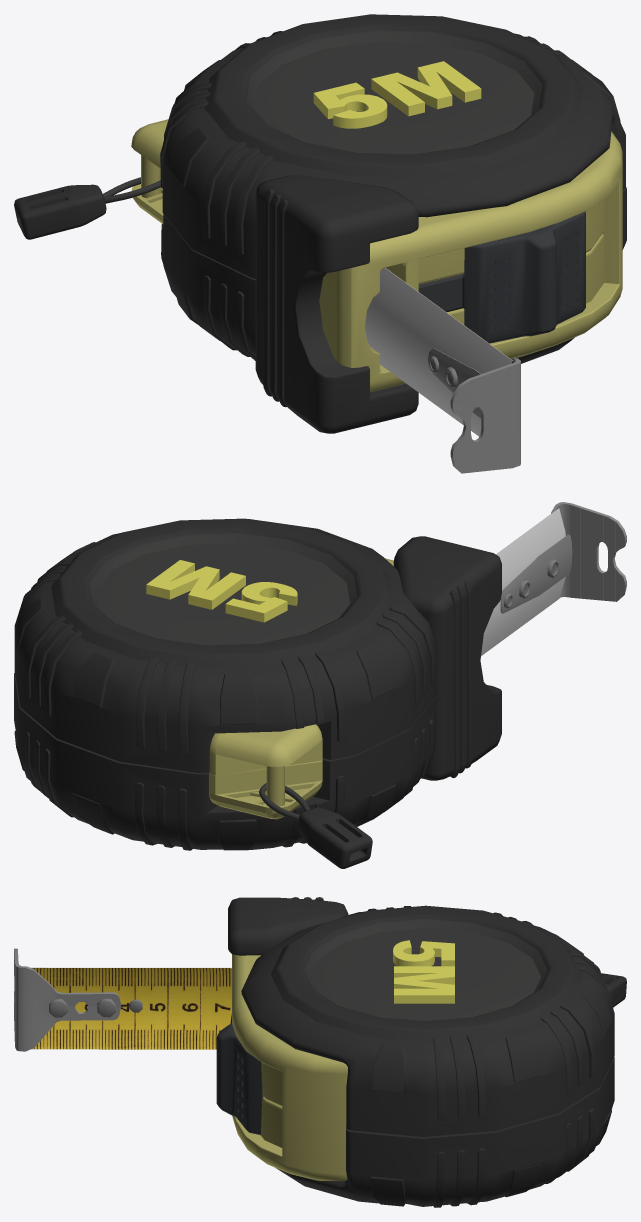
The picture shows the model from 3 angles, top to bottom: view 1: azimuth 30°, elevation 25°; view 2: azimuth 150°, elevation 25°; view 3: azimuth 270°, elevation 25°; orthographic projection. The views are drawn at different scales.
Parts seen in each view (by area): view 1: polySurface144, pCube193, polySurface23, polySurface206, polySurface176, polySurface205, polySurface143, polySurface198, typeMesh1, pCube192, polySurface208, polySurface178 (+5 smaller); view 2: polySurface144, polySurface143, polySurface23, pCube193, typeMesh1, polySurface198, polySurface212, polySurface205, polySurface211, pCube192, polySurface201, polySurface218 (+1 smaller); view 3: polySurface144, polySurface143, polySurface23, polySurface205, polySurface206, pCube193, polySurface198, polySurface176, typeMesh1, polySurface209, polySurface210, pCube192.
Part boxes in pixels (x1,y1,x2,y2): polySurface144: [160, 31, 625, 278]; pCube193: [255, 175, 418, 433]; polySurface23: [204, 14, 583, 177]; polySurface206: [319, 131, 622, 392]; polySurface176: [462, 211, 585, 343]; polySurface205: [365, 267, 512, 436]; polySurface143: [161, 187, 626, 363]; polySurface198: [450, 358, 520, 473]; typeMesh1: [313, 61, 481, 128]; pCube192: [14, 184, 106, 239]; polySurface208: [418, 248, 464, 284]; polySurface178: [418, 274, 462, 312]; polySurface144: [14, 519, 436, 772]; polySurface143: [14, 673, 435, 850]; polySurface23: [51, 518, 393, 668]; pCube193: [393, 536, 501, 780]; typeMesh1: [146, 560, 297, 622]; polySurface198: [551, 502, 626, 601]; polySurface212: [208, 724, 322, 775]; polySurface205: [481, 508, 565, 655]; polySurface211: [209, 760, 322, 819]; pCube192: [298, 807, 372, 868]; polySurface201: [500, 534, 572, 613]; polySurface218: [266, 766, 284, 806]; polySurface144: [241, 906, 614, 1136]; polySurface143: [276, 1057, 614, 1207]; polySurface23: [271, 905, 582, 1041]; polySurface205: [30, 967, 231, 1049]; polySurface206: [232, 954, 347, 1180]; pCube193: [228, 897, 348, 955]; polySurface198: [14, 948, 120, 1051]; polySurface176: [216, 1014, 263, 1134]; typeMesh1: [393, 940, 454, 1003]; polySurface209: [260, 1096, 282, 1147]; polySurface210: [261, 1062, 282, 1106]; pCube192: [601, 973, 626, 1007].
Bounding box in the file's own units: 3.35 × 1.63 × 4.61.
